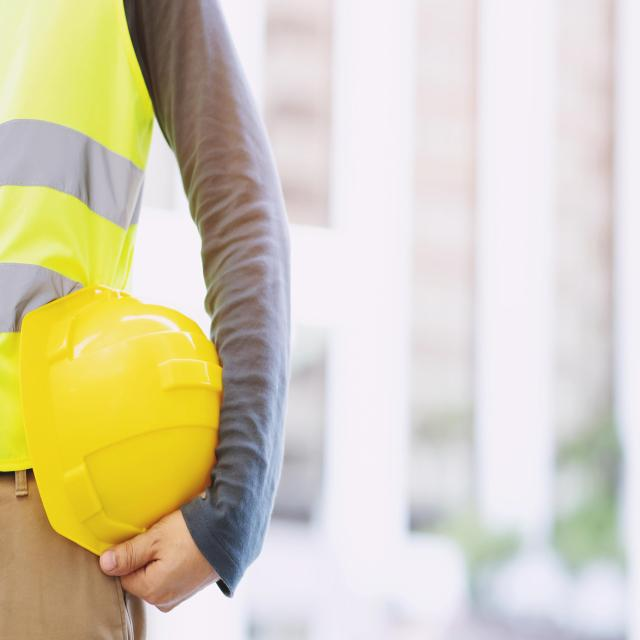Reflective-Jacket: (3, 0, 167, 514)
